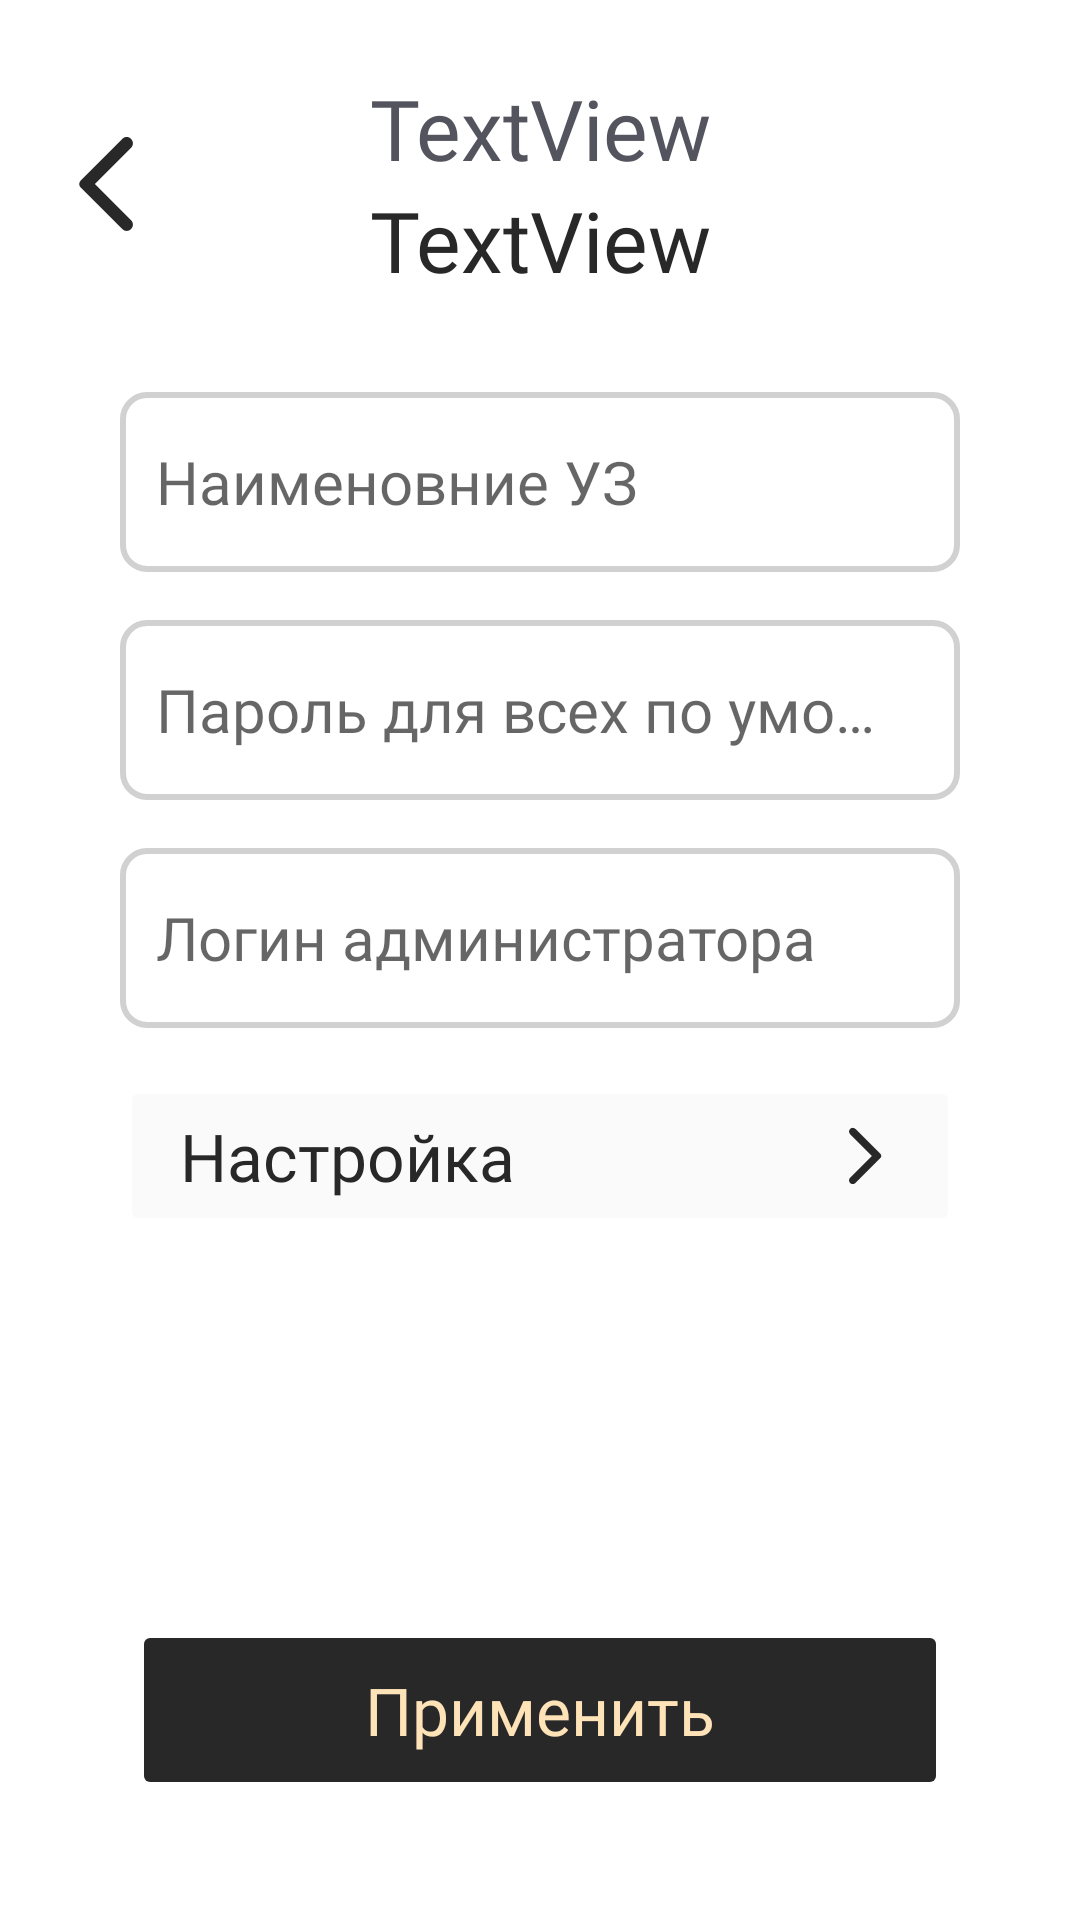

Named icons in this screenshot (1080 x 1920) and their bounding boxes, (x1, y1, x2, y2):
arrow back: (79, 137, 133, 231)
